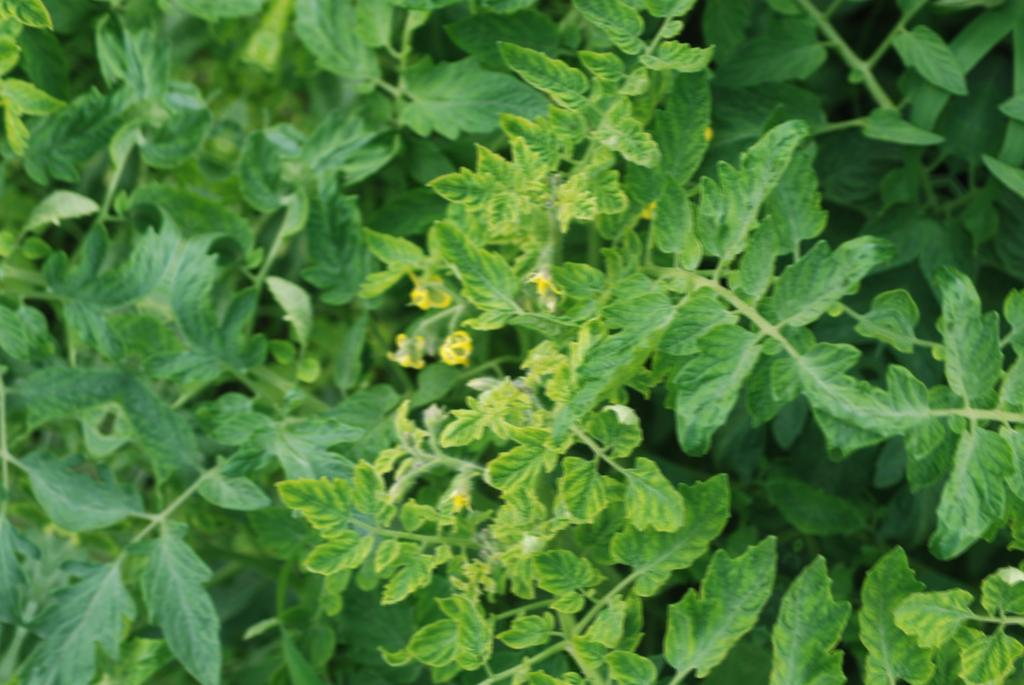Tomato leaf yellow virus: (588, 433, 746, 616), (651, 503, 796, 685), (550, 260, 696, 439), (652, 304, 770, 462), (767, 207, 895, 348), (407, 214, 539, 321), (262, 445, 374, 549), (478, 25, 600, 114), (543, 151, 649, 249), (513, 528, 616, 626), (610, 450, 706, 545), (477, 413, 571, 505), (298, 502, 390, 593), (633, 165, 714, 265), (539, 445, 623, 534), (417, 149, 512, 227), (432, 590, 514, 675), (636, 16, 717, 94), (578, 394, 653, 465), (600, 112, 676, 181), (376, 539, 442, 618), (491, 594, 563, 663), (543, 245, 616, 310), (633, 0, 759, 33), (431, 391, 489, 460), (596, 637, 670, 685), (287, 665, 460, 685), (514, 664, 588, 685)
